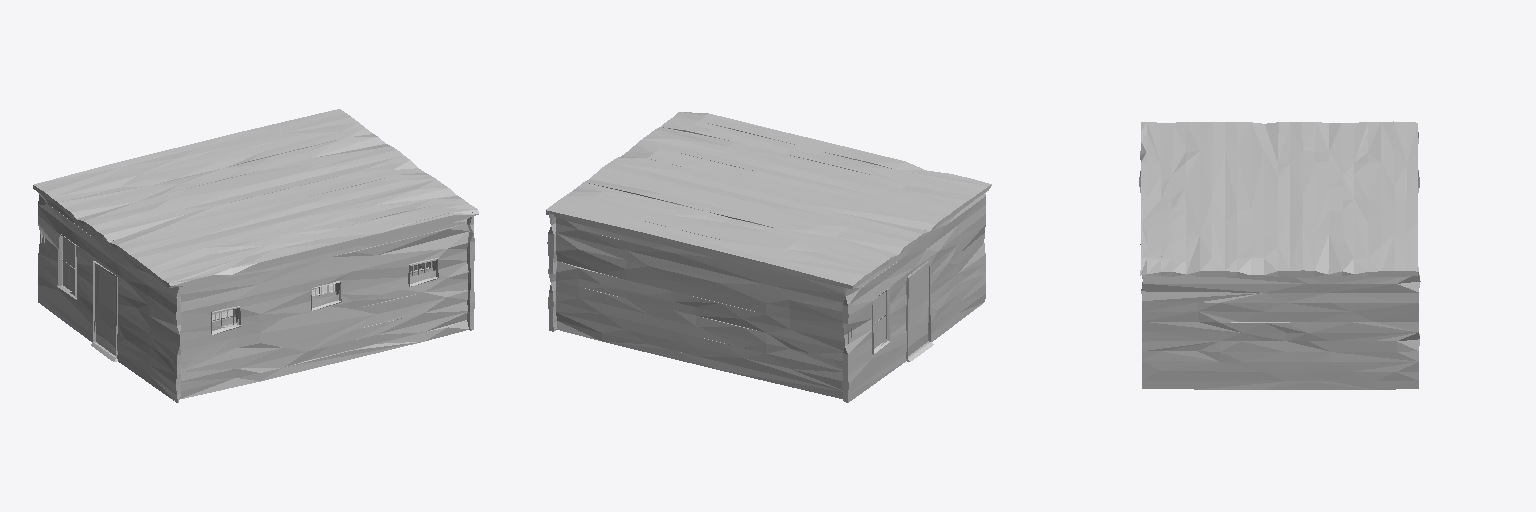
File: Sherffs Office_LOD2.obj
3 views of the same model, side by side, from view 1: azimuth 30°, elevation 25°; view 2: azimuth 150°, elevation 25°; view 3: azimuth 270°, elevation 25° (orthographic).
Parts seen in each view (by area): view 1: WildWest_Sherff_Walls, WildWest_Sherff_Ceiling, WildWest_Sherff_Door, WildWest_Sherff_Window; view 2: WildWest_Sherff_Walls, WildWest_Sherff_Ceiling, WildWest_Sherff_Door, WildWest_Sherff_Window; view 3: WildWest_Sherff_Ceiling, WildWest_Sherff_Walls.
Boxes of the visible parts, x1,y1,x2,y2 form: WildWest_Sherff_Walls: [38, 193, 474, 402]; WildWest_Sherff_Ceiling: [33, 109, 478, 400]; WildWest_Sherff_Door: [95, 264, 115, 355]; WildWest_Sherff_Window: [63, 237, 74, 292]; WildWest_Sherff_Walls: [547, 112, 985, 402]; WildWest_Sherff_Ceiling: [546, 112, 991, 308]; WildWest_Sherff_Door: [908, 267, 928, 355]; WildWest_Sherff_Window: [873, 292, 885, 348]; WildWest_Sherff_Ceiling: [1140, 121, 1418, 277]; WildWest_Sherff_Walls: [1139, 132, 1420, 389].
Size of the model in its own units: 9.56 by 3.58 by 7.48.